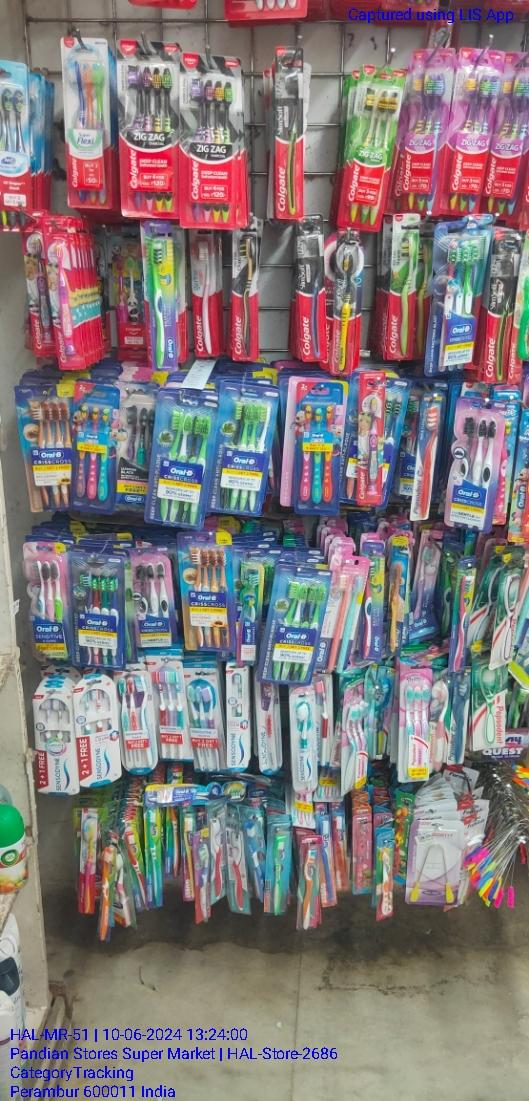12: (399, 668, 428, 782), (342, 686, 367, 792)
16: (78, 672, 117, 789)
4: (32, 682, 74, 796)
6: (119, 670, 150, 775)
8: (152, 651, 187, 761)
9: (236, 563, 261, 663)
liquid soap: (179, 52, 240, 227), (117, 40, 175, 218)
soap: (274, 45, 305, 218), (293, 223, 324, 357), (488, 235, 510, 382)
